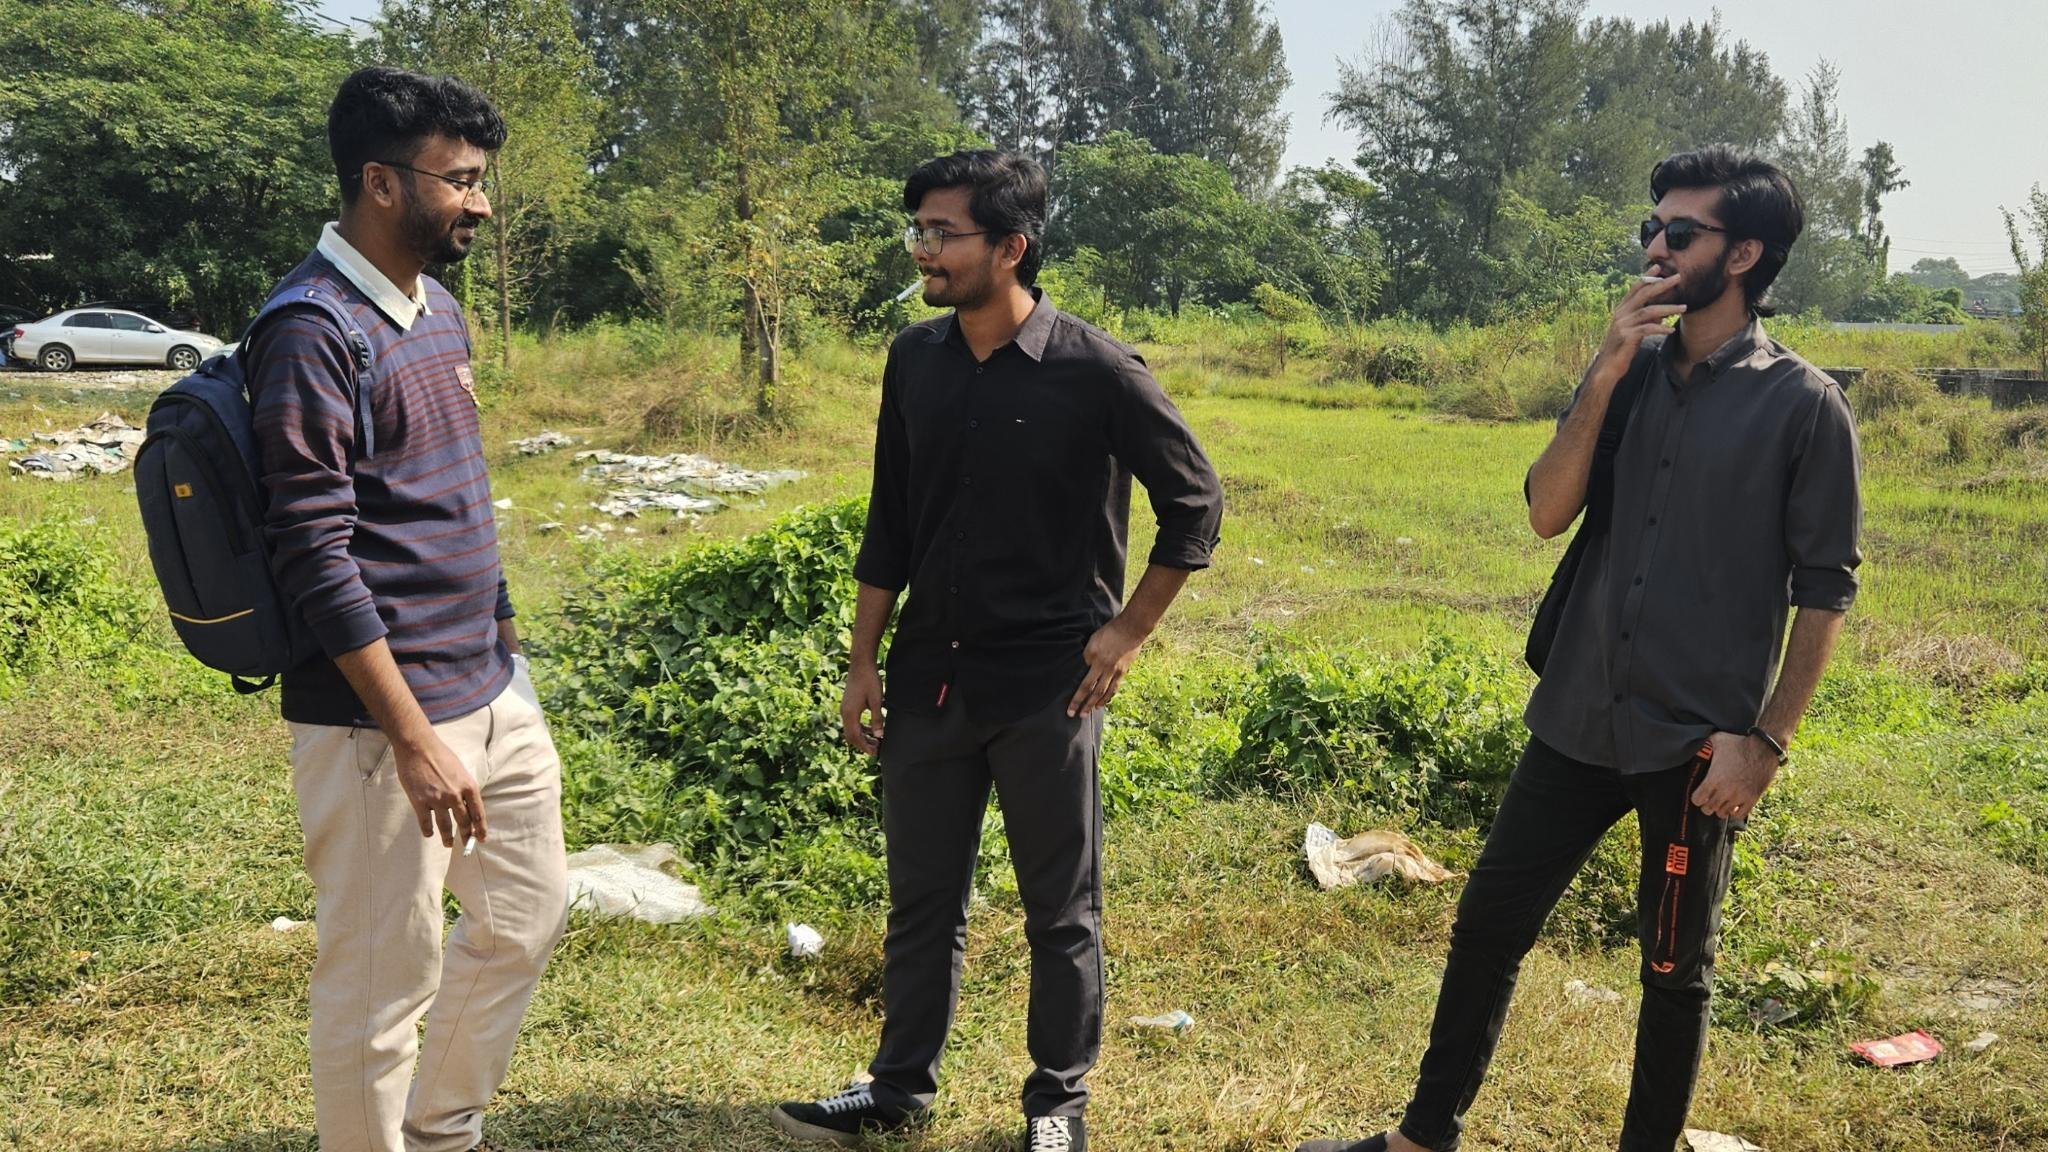cigarette: (895, 271, 934, 304), (460, 826, 482, 859), (1636, 271, 1668, 288)
smoker: (1294, 143, 1865, 1152), (134, 68, 570, 1152), (771, 148, 1225, 1152)
